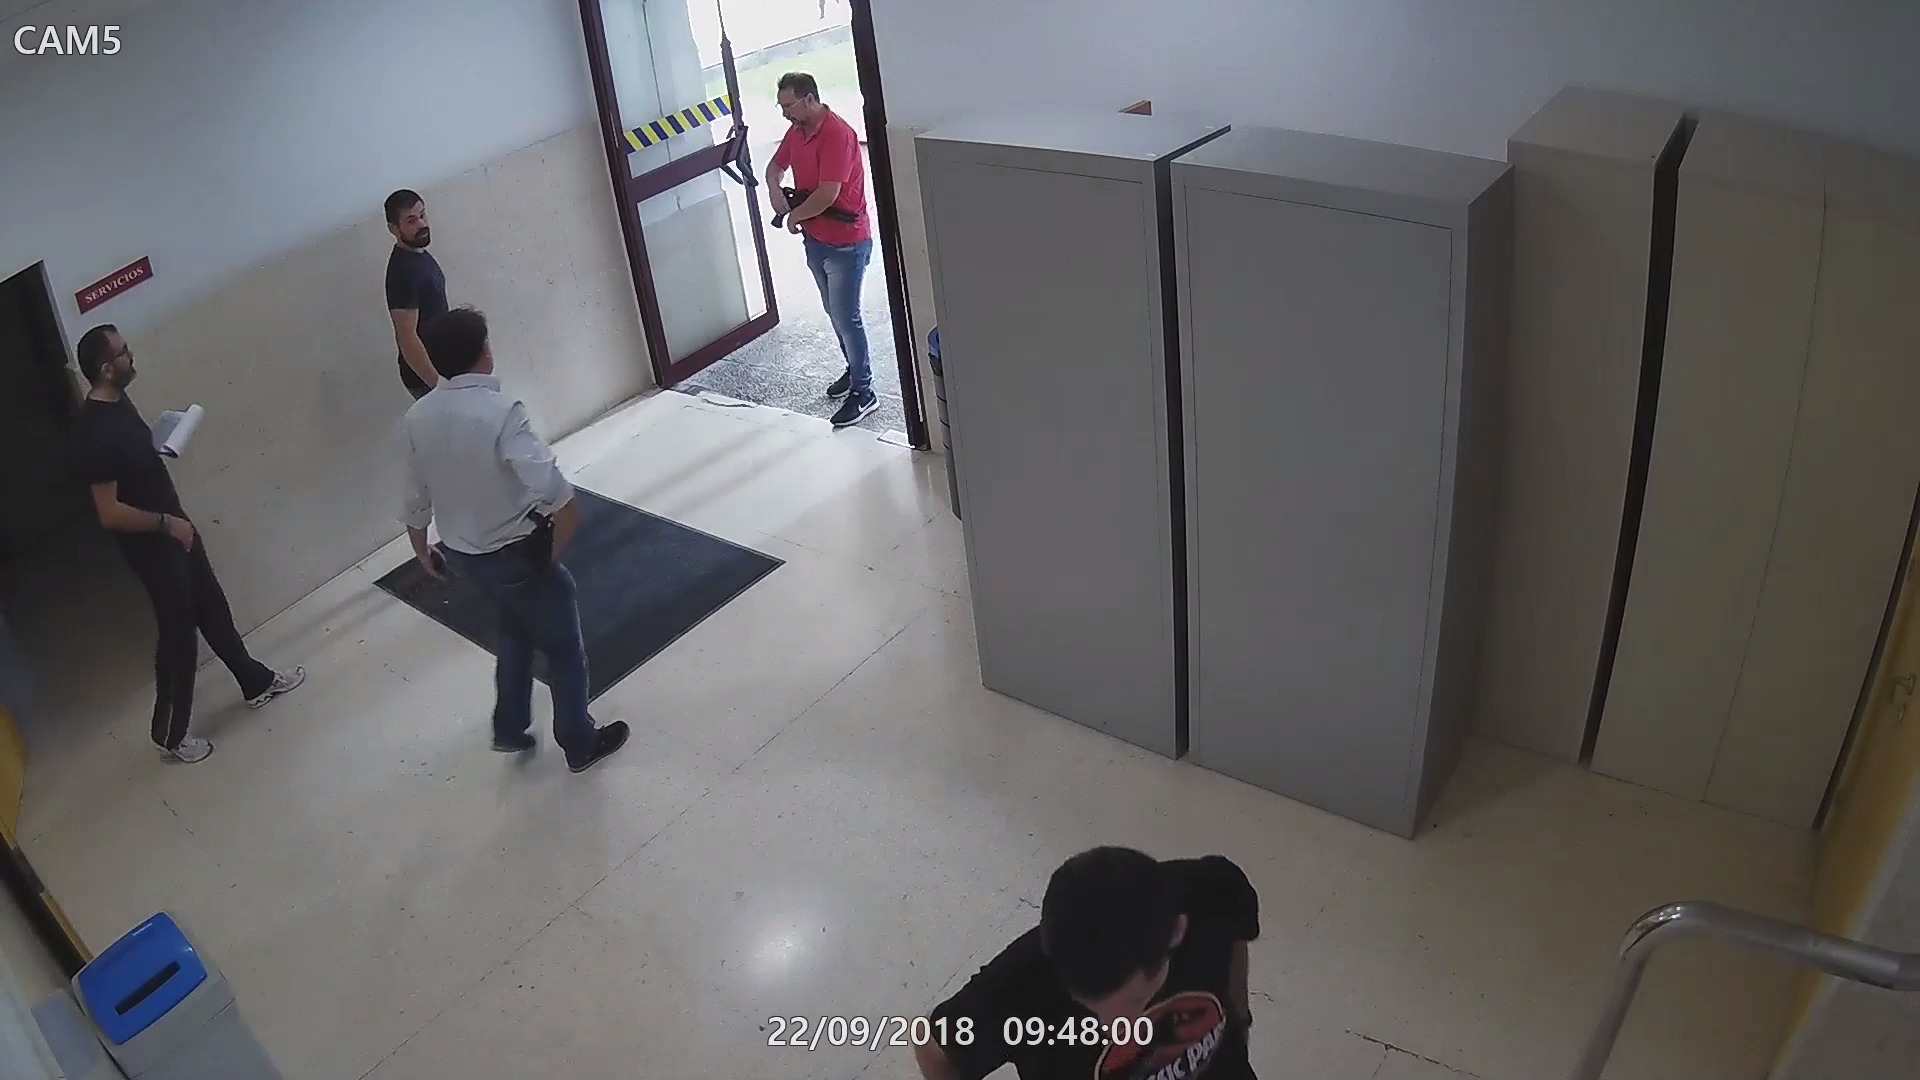Handgun: (419, 541, 464, 589)
Short_rifle: (767, 183, 862, 229)
